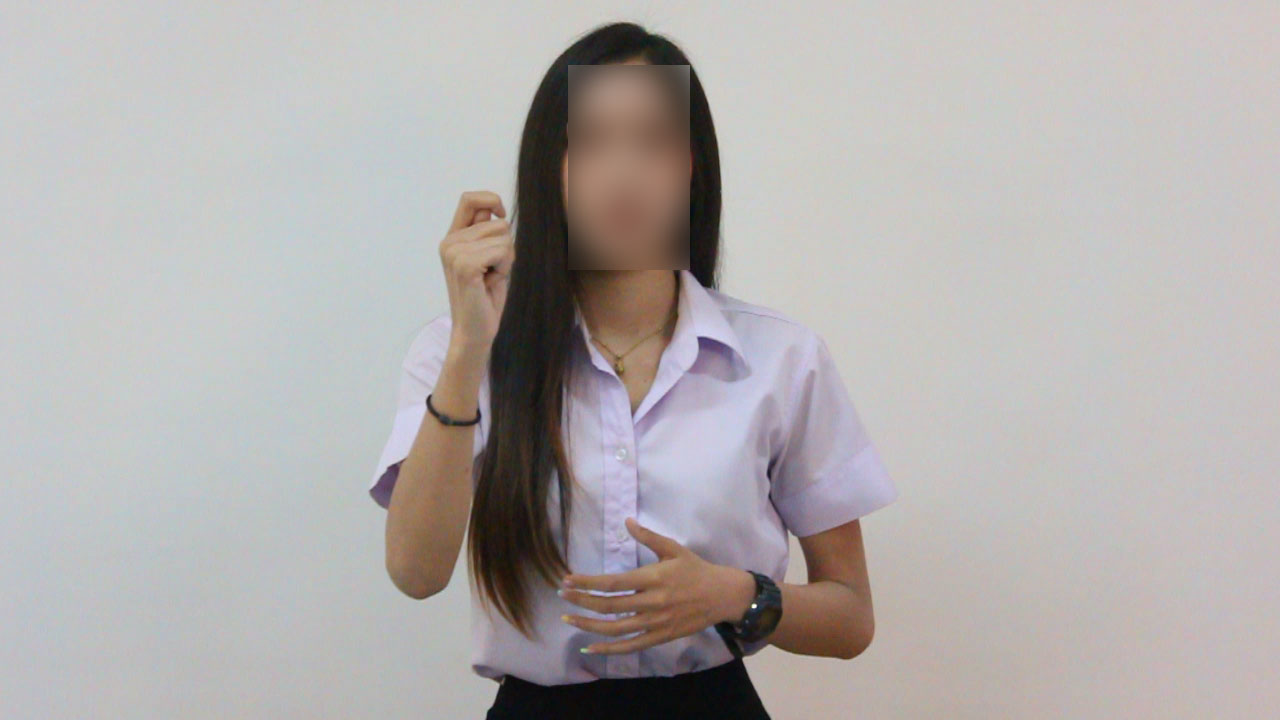or: (430, 184, 525, 363)
